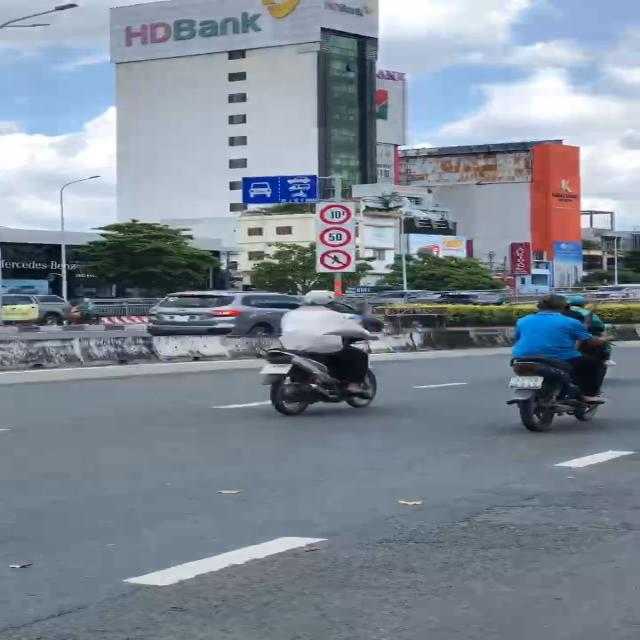Bien bao cam nguoi di bo: (317, 248, 357, 271)
Bien bao toc do toi da cho phep: (319, 224, 354, 248)
